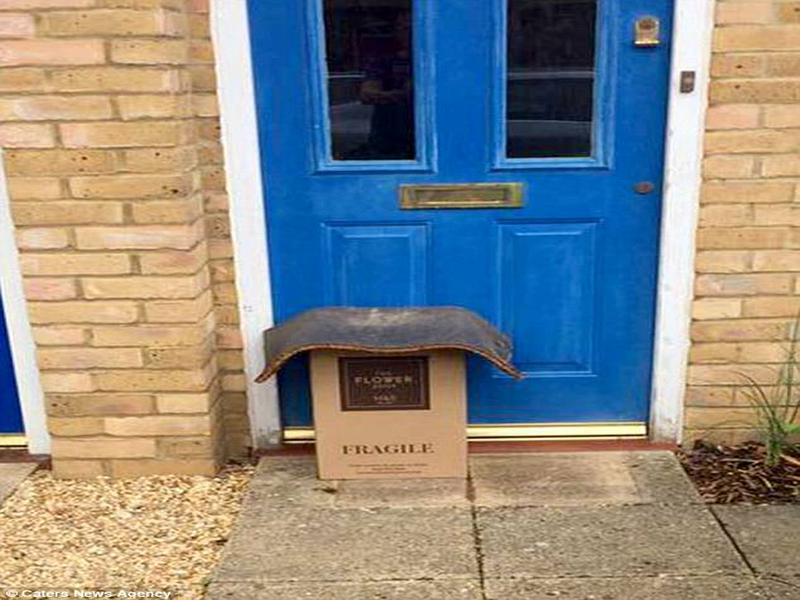package: (306, 348, 476, 488)
